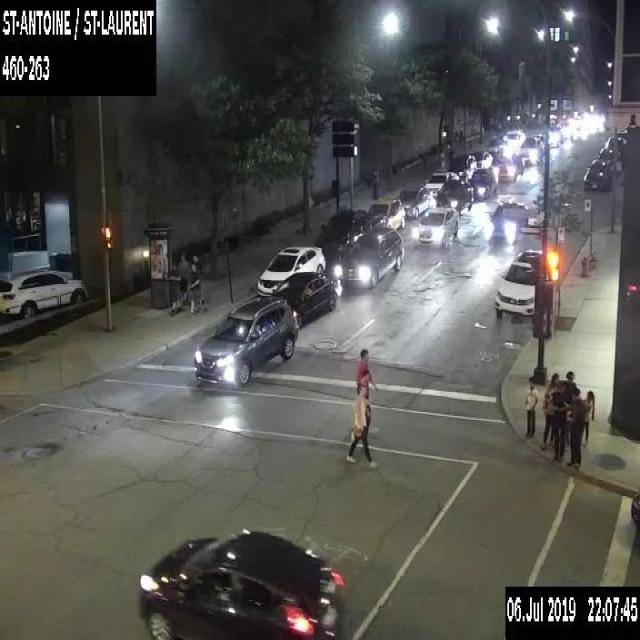pedestrian: (346, 368, 379, 468), (349, 347, 379, 447), (566, 387, 589, 468), (546, 379, 568, 460), (539, 369, 560, 449), (186, 262, 204, 314), (564, 371, 576, 446), (524, 374, 538, 438), (167, 261, 182, 316), (581, 388, 594, 444), (191, 253, 203, 306), (177, 252, 189, 304)
vehicle: (136, 528, 344, 639), (194, 296, 298, 385), (268, 270, 342, 330), (0, 268, 86, 318), (336, 226, 403, 286), (492, 247, 541, 321), (257, 245, 325, 296), (313, 208, 373, 265), (414, 206, 458, 244), (486, 196, 526, 237), (431, 179, 473, 214), (367, 197, 405, 230), (398, 185, 433, 219), (423, 169, 458, 197), (468, 167, 497, 200), (582, 158, 611, 190), (493, 154, 522, 181), (448, 153, 475, 180), (516, 137, 542, 164), (596, 146, 619, 172), (486, 134, 509, 158), (605, 136, 625, 158), (473, 148, 493, 169), (503, 128, 525, 146), (530, 132, 546, 153), (549, 125, 562, 146), (631, 496, 639, 524), (616, 128, 627, 143)
